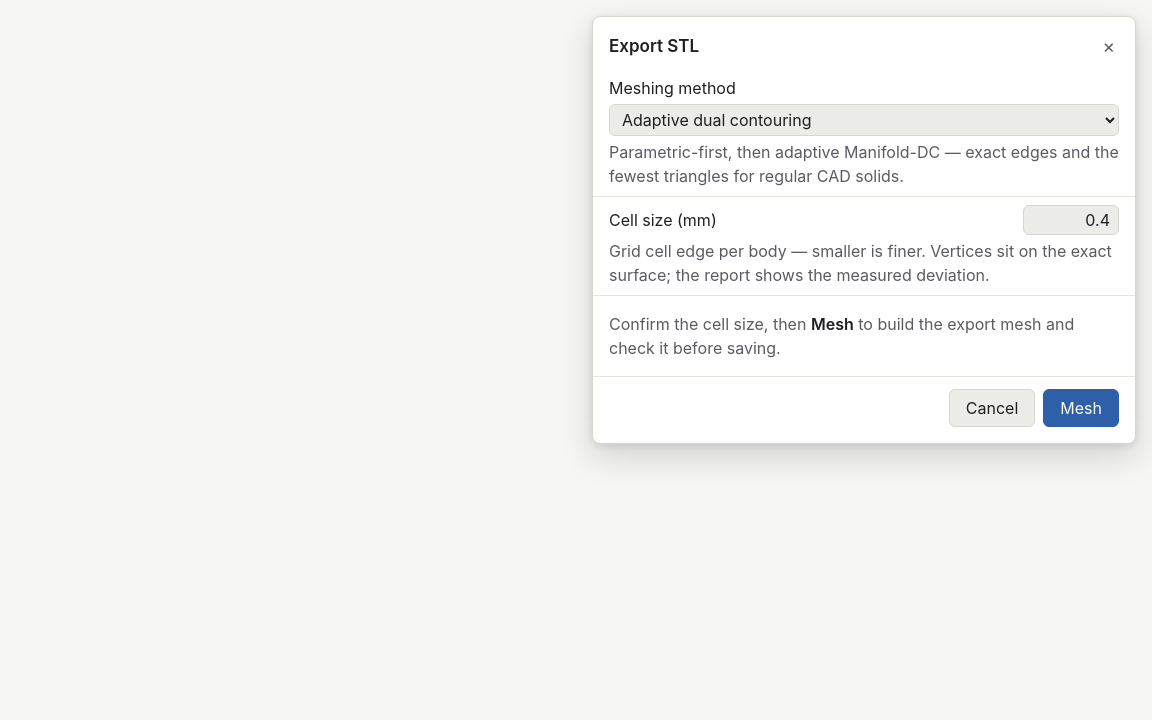
Test case: ExportDialog — Lichen (faa42489) › shows the curvature angle ONLY for Lichen — its one extra knob
Select "Lichen (SDF + B-Rep, kantenexakt)" in the dropdown with test id "export-method" at (864,120), box [609, 104, 1119, 136]
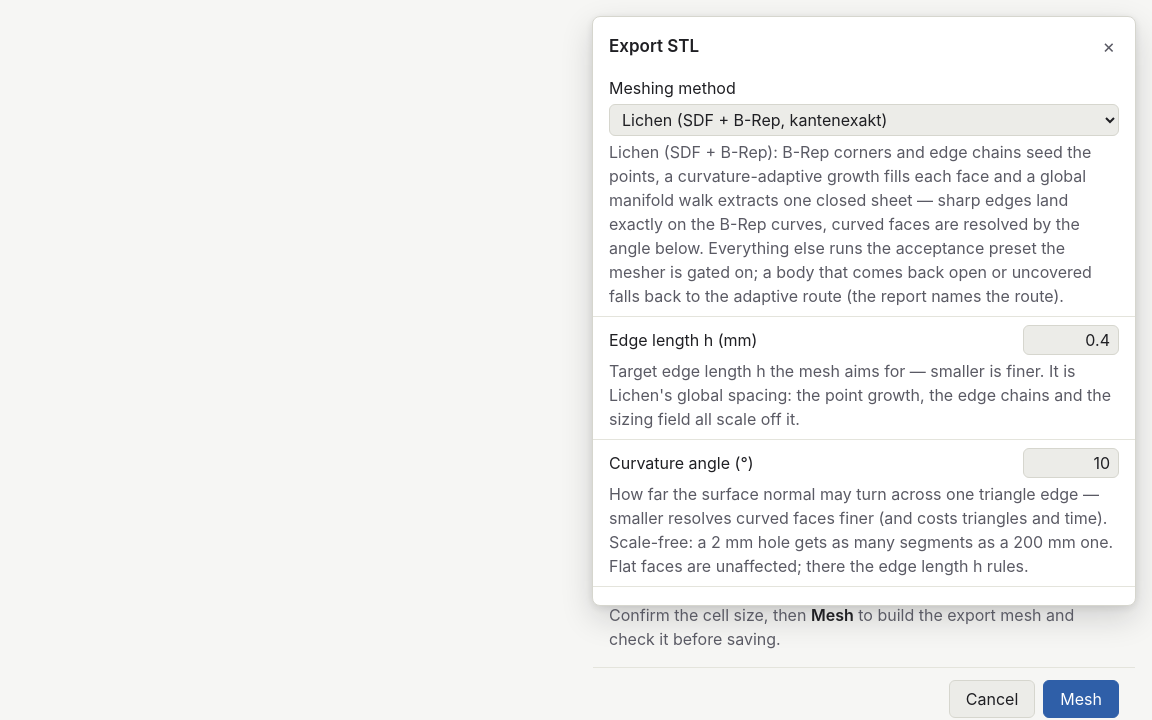
Check: the field with test id "export-curv-angle" is shown, box [1023, 448, 1119, 478]
Check: the label "Edge length h (mm)" is shown, box [609, 330, 757, 350]
Select "Adaptive dual contouring" in the dropdown with test id "export-method" at (864,120), box [609, 104, 1119, 136]
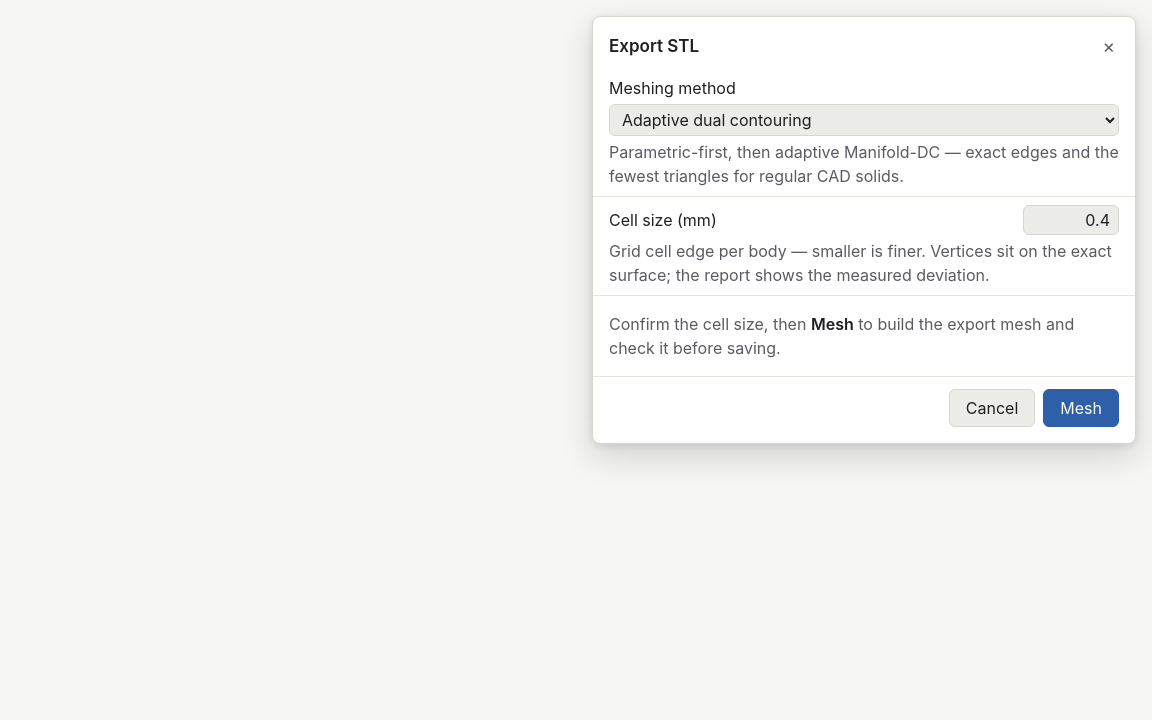
Check: the label with test id "export-curv-angle" is gone
